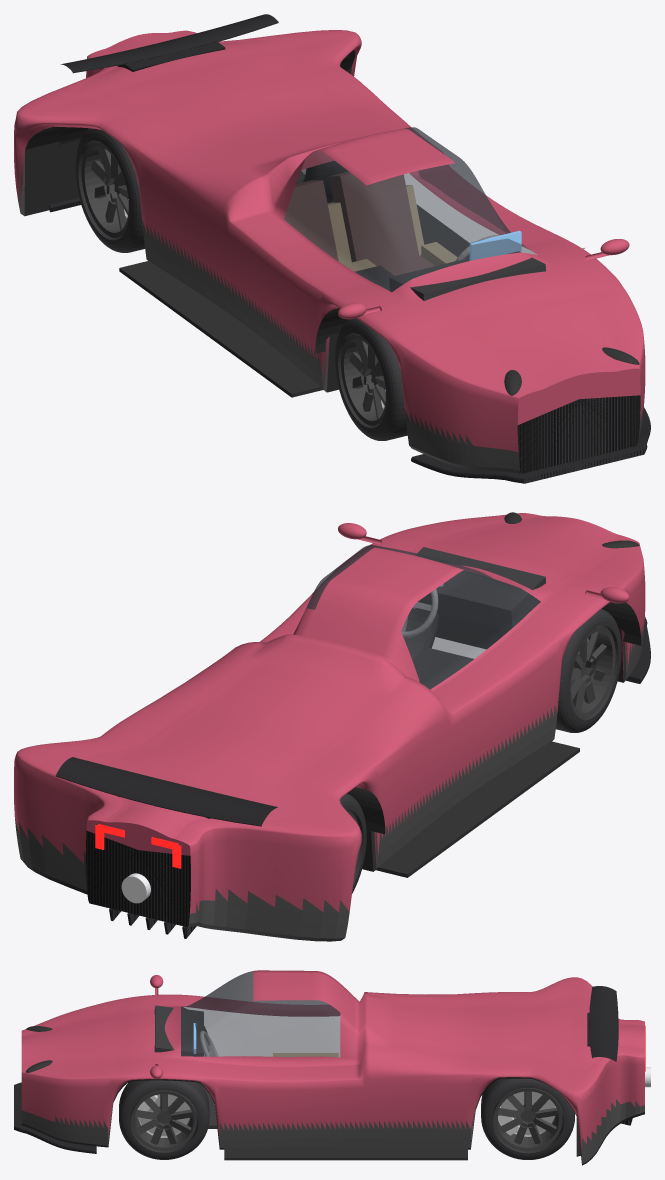
Rendered from koenigsegg-regera.glb.
3 views of the same model, one above another, from view 1: azimuth 30°, elevation 25°; view 2: azimuth 150°, elevation 25°; view 3: azimuth 270°, elevation 25° (orthographic). The views are drawn at different scales.
Visible parts, largest first — view 1: Body_PrimaryPaint, Glass_Windows, Carbon_Exterior, Body_SecondaryPaint, Interior_Seats, WheelWells, Underbody, Tire_FR, Rim_RR, Tire_RR, Rim_FR, Interior_SeatBolsters (+4 smaller); view 2: Body_PrimaryPaint, Body_SecondaryPaint, Carbon_Exterior, Glass_Windows, WheelWells, Interior_Dashboard, Rim_FR, Tire_FR, Underbody, Interior_Tub, Rim_FL, Lights_Rear (+2 smaller); view 3: Body_PrimaryPaint, Glass_Windows, Body_SecondaryPaint, WheelWells, Carbon_Exterior, Tire_FL, Rim_RL, Tire_RL, Rim_FL, Interior_Dashboard, Underbody, BrakeDisc_RL (+2 smaller).
Boxes of the visible parts, x1=… form: Body_PrimaryPaint: x1=14, y1=30, x2=645, y2=451; Glass_Windows: x1=284, y1=127, x2=536, y2=291; Carbon_Exterior: x1=49, y1=14, x2=650, y2=483; Body_SecondaryPaint: x1=18, y1=69, x2=643, y2=473; Interior_Seats: x1=284, y1=171, x2=434, y2=275; WheelWells: x1=59, y1=127, x2=584, y2=397; Underbody: x1=24, y1=50, x2=355, y2=392; Tire_FR: x1=335, y1=318, x2=407, y2=440; Rim_RR: x1=81, y1=141, x2=129, y2=237; Tire_RR: x1=75, y1=128, x2=144, y2=252; Rim_FR: x1=341, y1=334, x2=386, y2=425; Interior_SeatBolsters: x1=328, y1=185, x2=457, y2=271; Body_PrimaryPaint: x1=14, y1=513, x2=645, y2=913; Body_SecondaryPaint: x1=15, y1=625, x2=644, y2=941; Carbon_Exterior: x1=55, y1=617, x2=650, y2=938; Glass_Windows: x1=302, y1=545, x2=540, y2=689; WheelWells: x1=347, y1=602, x2=641, y2=877; Interior_Dashboard: x1=415, y1=547, x2=545, y2=630; Rim_FR: x1=570, y1=626, x2=615, y2=717; Tire_FR: x1=556, y1=609, x2=621, y2=732; Underbody: x1=24, y1=614, x2=623, y2=894; Interior_Tub: x1=412, y1=648, x2=473, y2=674; Rim_FL: x1=404, y1=608, x2=432, y2=659; Lights_Rear: x1=95, y1=824, x2=181, y2=868; Body_PrimaryPaint: x1=21, y1=970, x2=644, y2=1153; Glass_Windows: x1=181, y1=971, x2=340, y2=1057; Body_SecondaryPaint: x1=21, y1=1099, x2=644, y2=1163; WheelWells: x1=224, y1=1145, x2=467, y2=1160; Carbon_Exterior: x1=14, y1=986, x2=632, y2=1156; Tire_FL: x1=119, y1=1080, x2=209, y2=1159; Rim_RL: x1=493, y1=1088, x2=562, y2=1151; Tire_RL: x1=481, y1=1078, x2=574, y2=1159; Rim_FL: x1=131, y1=1090, x2=197, y2=1150; Interior_Dashboard: x1=154, y1=1005, x2=203, y2=1056; Underbody: x1=21, y1=1077, x2=644, y2=1165; BrakeDisc_RL: x1=500, y1=1091, x2=555, y2=1136.
Bounding box in the file's own units: 2.06 × 1.11 × 4.66.
17 materials, 2 textured.
